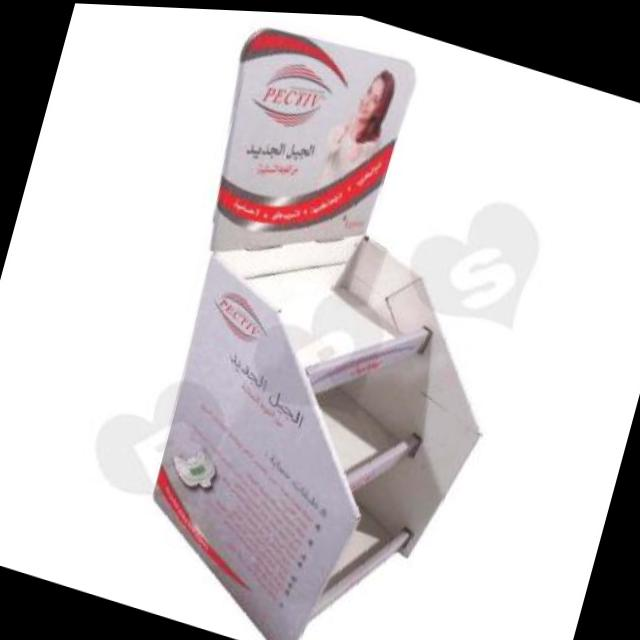box: (66, 2, 640, 640)
